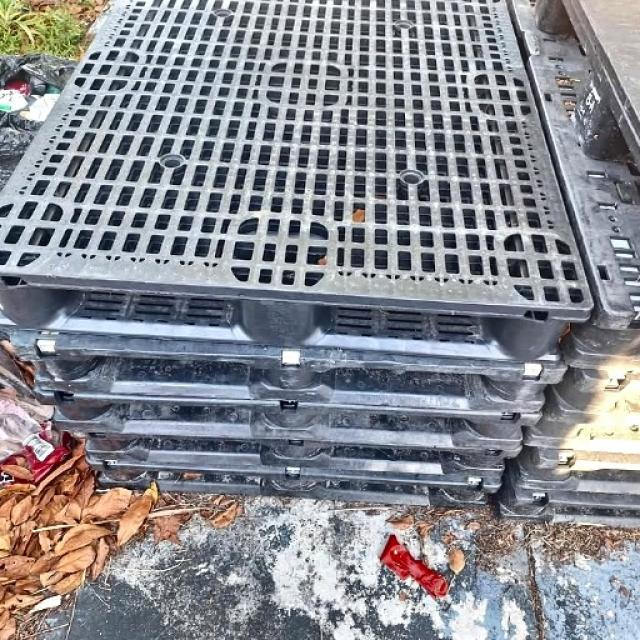non-igps: (0, 0, 600, 377), (4, 310, 575, 425), (504, 0, 640, 378), (29, 373, 548, 462), (62, 422, 534, 494), (80, 444, 508, 513), (528, 0, 640, 179), (497, 412, 640, 500), (487, 454, 640, 534), (518, 372, 640, 459), (539, 346, 640, 431)
